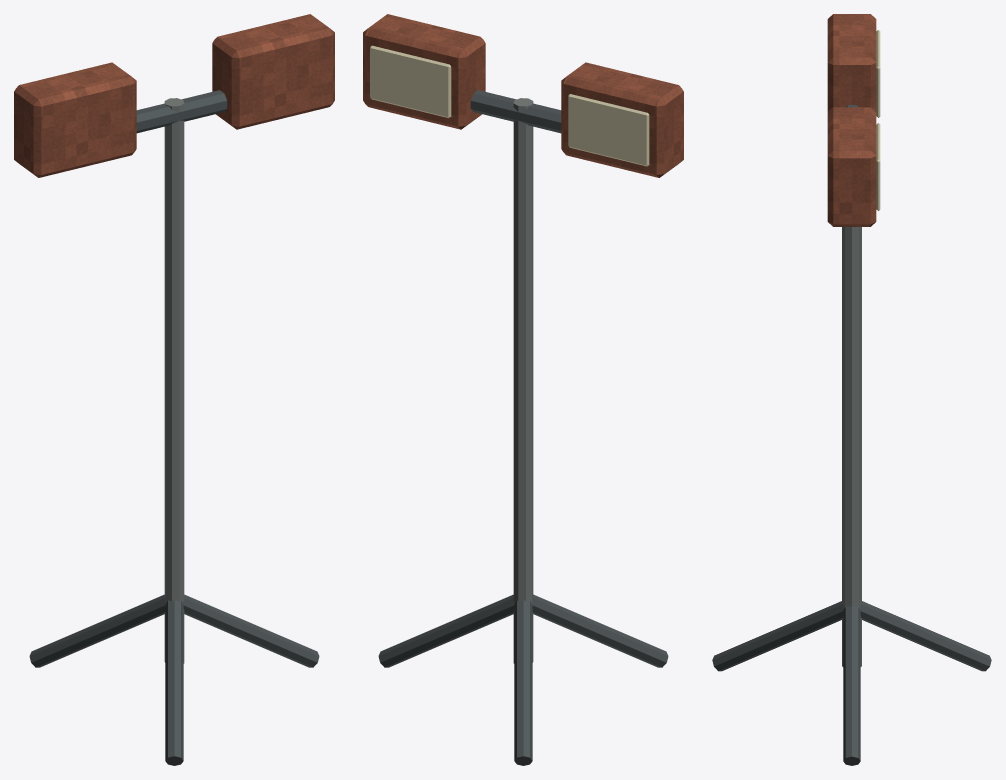
The picture shows the model from 3 angles, left to right: view 1: azimuth 30°, elevation 25°; view 2: azimuth 150°, elevation 25°; view 3: azimuth 270°, elevation 25°; orthographic projection. The views are drawn at different scales.
Visible parts, largest first — view 1: LampYaw_Mesh, ST2-P04_Mesh; view 2: LampYaw_Mesh, ST2-P04_Mesh; view 3: ST2-P04_Mesh, LampYaw_Mesh.
Boxes of the visible parts, bbox=[...] form: LampYaw_Mesh: bbox=[14, 14, 334, 177]; ST2-P04_Mesh: bbox=[29, 98, 319, 765]; LampYaw_Mesh: bbox=[363, 14, 683, 177]; ST2-P04_Mesh: bbox=[378, 98, 668, 765]; ST2-P04_Mesh: bbox=[712, 227, 991, 765]; LampYaw_Mesh: bbox=[827, 14, 880, 226].
Size of the model in its own units: 1.52 by 3.1 by 1.27.
Materials: 4 (1 with a texture image).
